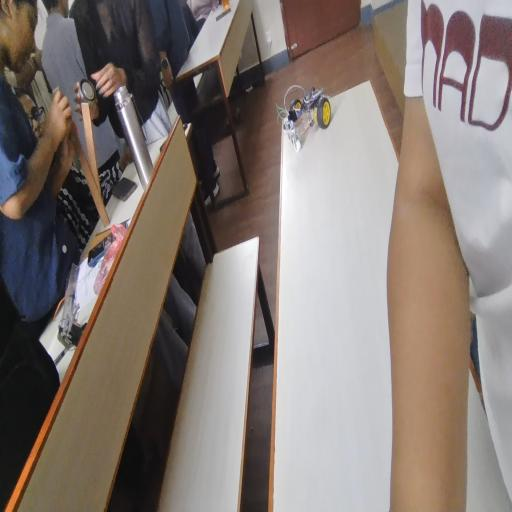car: (274, 80, 322, 174)
